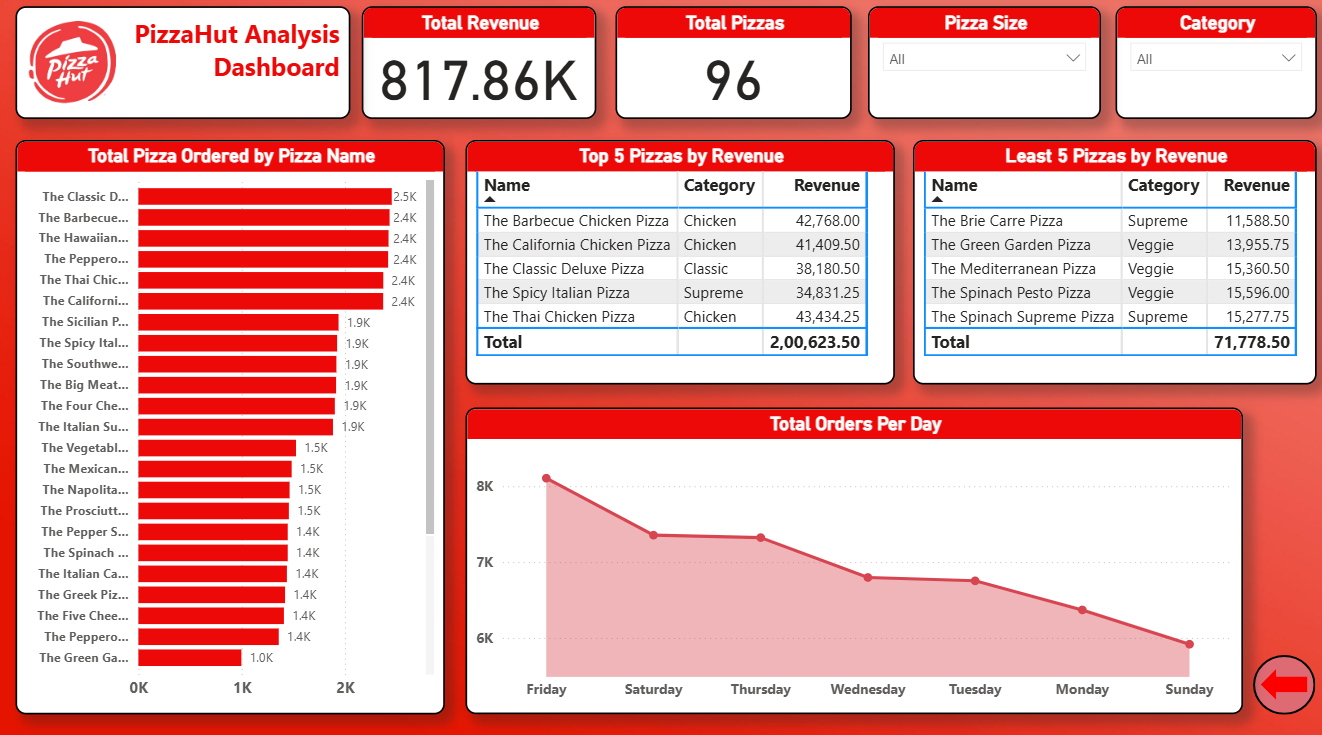

Layout of this report page (visuals, bound fields, positions):
{"tool":"powerbi","page":{"name":"DashBoard 2","canvas":[1280,720],"ordinal":1},"visuals":[{"type":"card","title":"Total Revenue","fields":{"Values":["order_details.Total_Revenue"]},"box":[351.3,11,226.4,108.4],"z":0},{"type":"card","title":"Total Pizzas","fields":{"Values":["Count(pizzas.pizza_id)"]},"box":[595.5,11,227.8,108.4],"z":1000},{"type":"textbox","box":[16.9,10.9,323.3,108.6],"z":2000},{"type":"image","box":[16.9,10.9,109.8,108.6],"z":3000},{"type":"slicer","title":"Category","fields":{"Values":["pizza_types.category"]},"box":[1078.6,10.9,194.2,108.6],"z":4000},{"type":"tableEx","title":"Top 5  Pizzas by Revenue","fields":{"Values":["pizza_types.name","pizza_types.category","order_details.Total_Revenue"]},"box":[451.5,140,414.4,236],"z":5000},{"type":"tableEx","title":"Least 5 Pizzas by Revenue","fields":{"Values":["pizza_types.name","pizza_types.category","order_details.Total_Revenue"]},"box":[883.7,140,389.7,236],"z":6000},{"type":"slicer","title":"Pizza Size","fields":{"Values":["pizzas.size"]},"box":[839.8,11,225,108.4],"z":8000},{"type":"shape","box":[1211.7,636.7,60.4,57.6],"z":10000},{"type":"shape","box":[1218.5,650.4,45.3,30.2],"z":10001},{"type":"clusteredBarChart","title":"Total Pizza Ordered by Pizza Name","fields":{"Category":["pizza_types.name"],"Y":["Sum(order_details.quantity)"]},"box":[16.5,140,414.4,554.4],"z":10002},{"type":"areaChart","title":"Total Orders Per Day","fields":{"Category":["Custom_calendar.Day Name"],"Y":["CountNonNull(order_details.order_details_id)"]},"box":[451.5,397.9,750.6,296.4],"z":10003}]}

Visuals, with their boxes in screenshot pixels (x1, y1, x2, y2), scaled from the page's 1280x720 canvas onto the 1322x735 screenshot:
"Total Revenue" card: [363, 11, 597, 122]
"Total Pizzas" card: [615, 11, 850, 122]
textbox: [17, 11, 351, 122]
image: [17, 11, 131, 122]
"Category" slicer: [1114, 11, 1315, 122]
"Top 5  Pizzas by Revenue" tableEx: [466, 143, 894, 384]
"Least 5 Pizzas by Revenue" tableEx: [913, 143, 1315, 384]
"Pizza Size" slicer: [867, 11, 1100, 122]
shape: [1251, 650, 1314, 709]
shape: [1258, 664, 1305, 695]
"Total Pizza Ordered by Pizza Name" clusteredBarChart: [17, 143, 445, 709]
"Total Orders Per Day" areaChart: [466, 406, 1242, 709]
